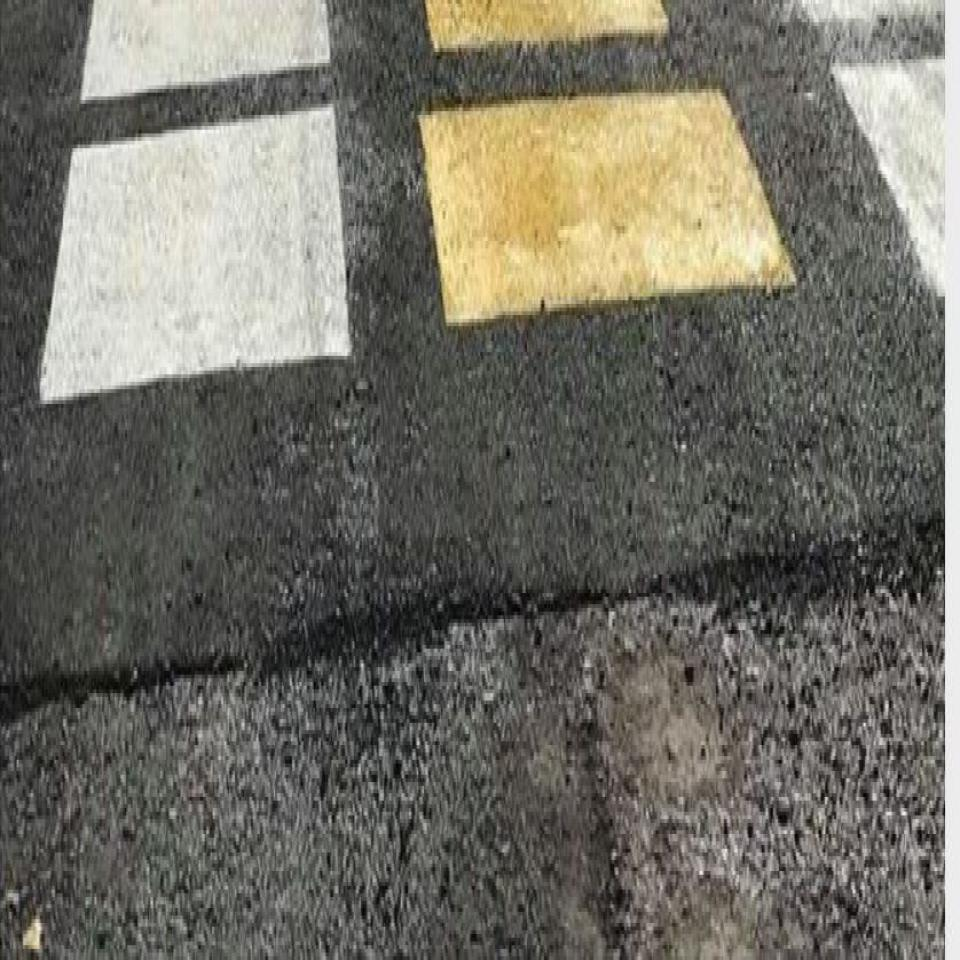speedbreaker: (11, 0, 950, 515)
